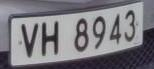3: (123, 8, 139, 46)
4: (108, 9, 124, 49)
8: (73, 14, 91, 57)
9: (91, 11, 109, 52)
H: (40, 18, 63, 61)
V: (18, 20, 41, 61)
